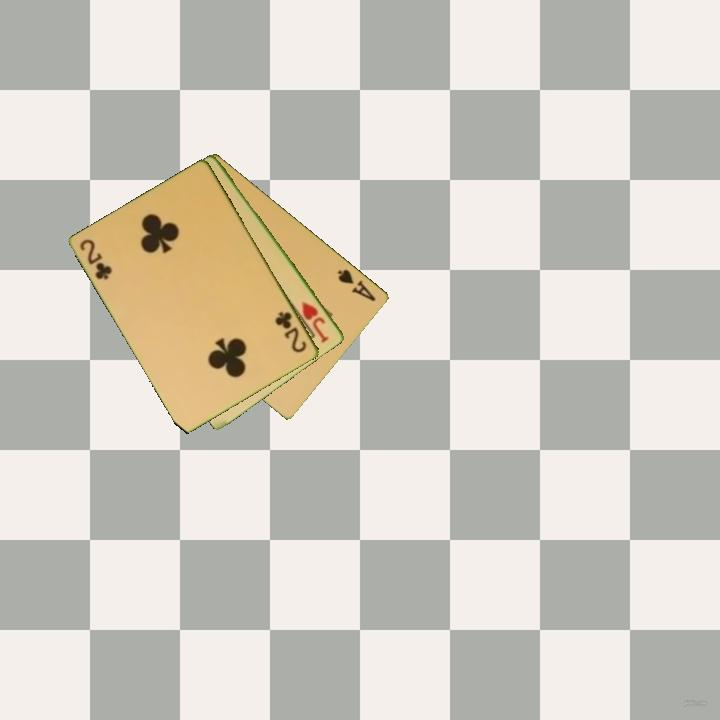2c: (272, 308, 310, 356), (77, 235, 115, 283)
As: (334, 265, 379, 304)
Jh: (298, 298, 332, 346)
